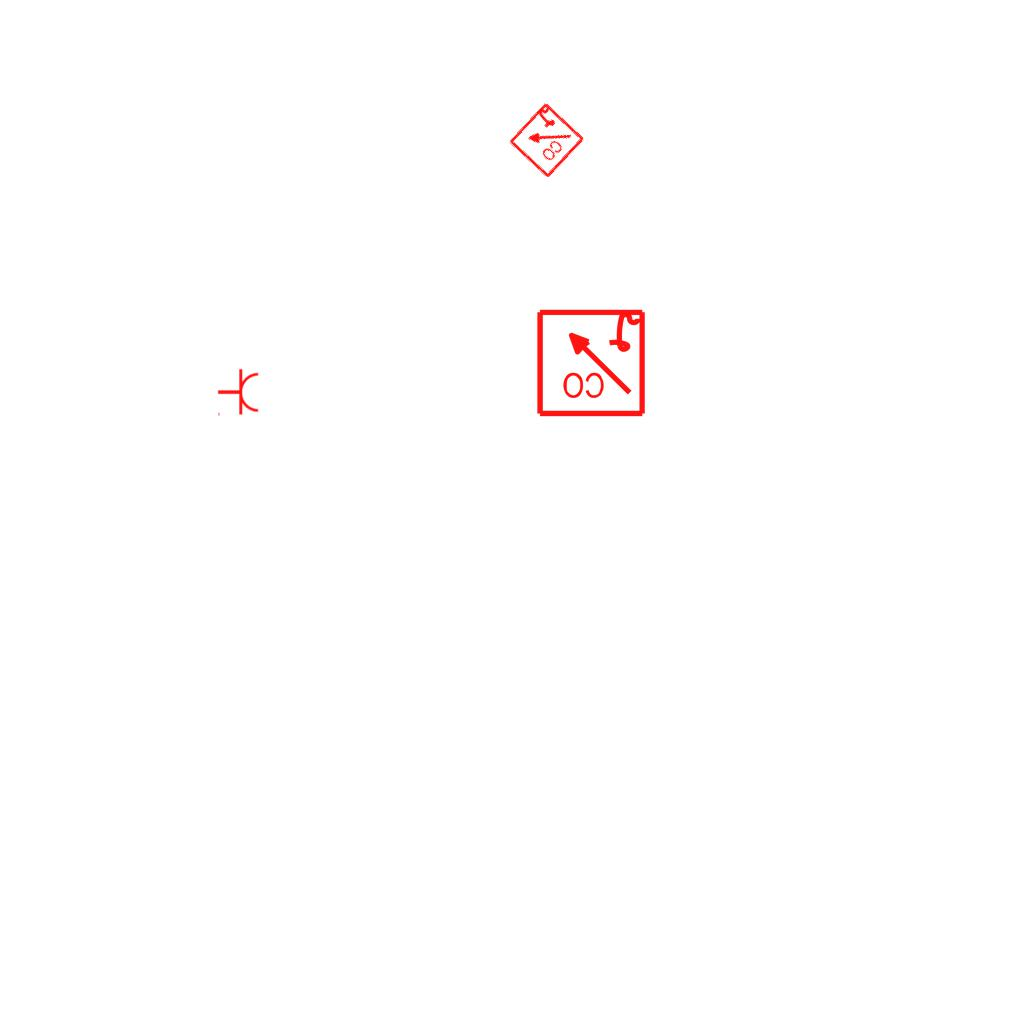ROA_Rauchmelder_optisch_mit_Signalgeber_(Sockelsirene): (534, 305, 647, 418), (506, 100, 586, 180)
Schukosteckdose_einfach: (217, 368, 260, 418)
